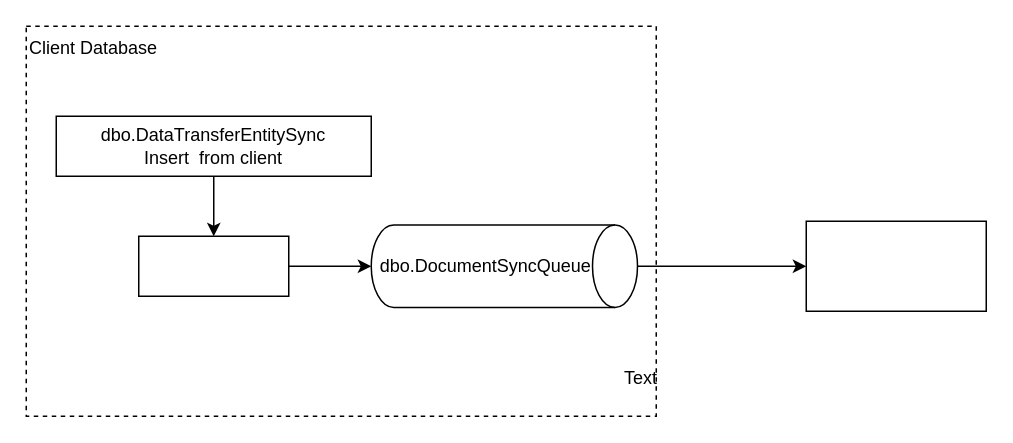
This 1013x443 diagram has some shape labels left out. Each missing label, with the centre of its shape:
DataTransfer Host: (x=895, y=265)
Trigger: (x=213, y=265)
